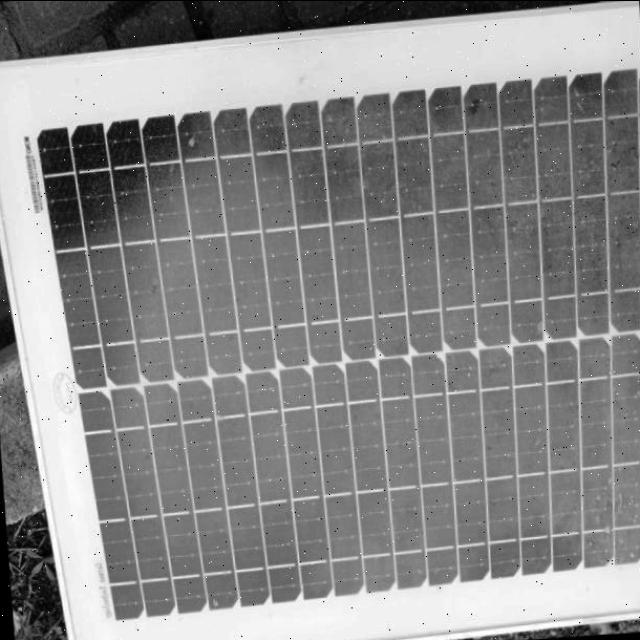Surface Contaminant: (55, 44, 640, 640)
